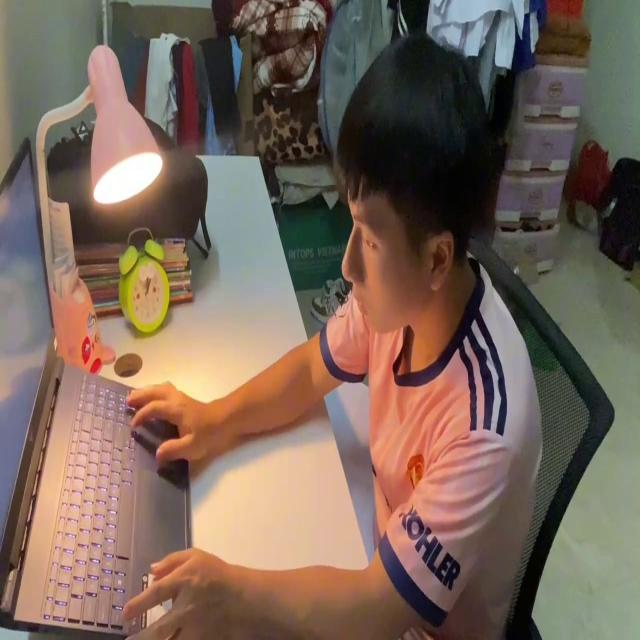book: (324, 370, 378, 574)
laptop: (0, 130, 196, 640)
student: (128, 32, 542, 640)
